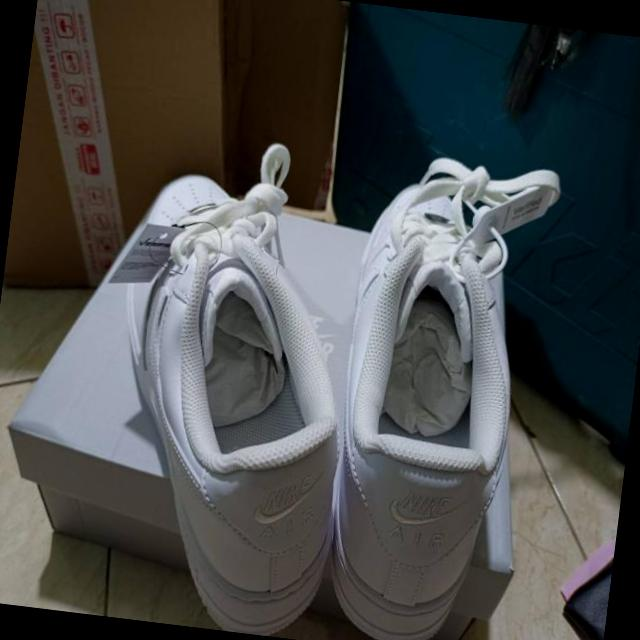nike_original_airforce: (78, 165, 375, 640), (313, 165, 538, 640)
